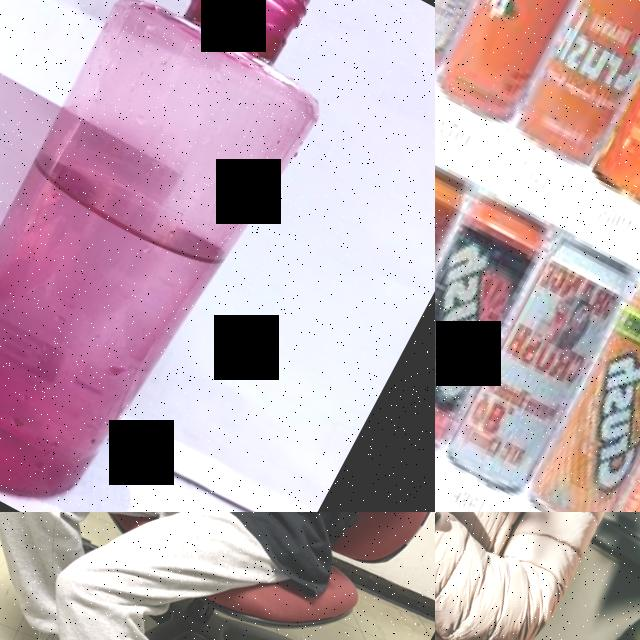bottle: (0, 0, 381, 512)
can: (438, 231, 640, 501), (435, 184, 557, 458), (515, 270, 640, 512), (435, 0, 627, 128), (506, 0, 640, 173), (587, 0, 640, 215), (435, 0, 552, 88)
